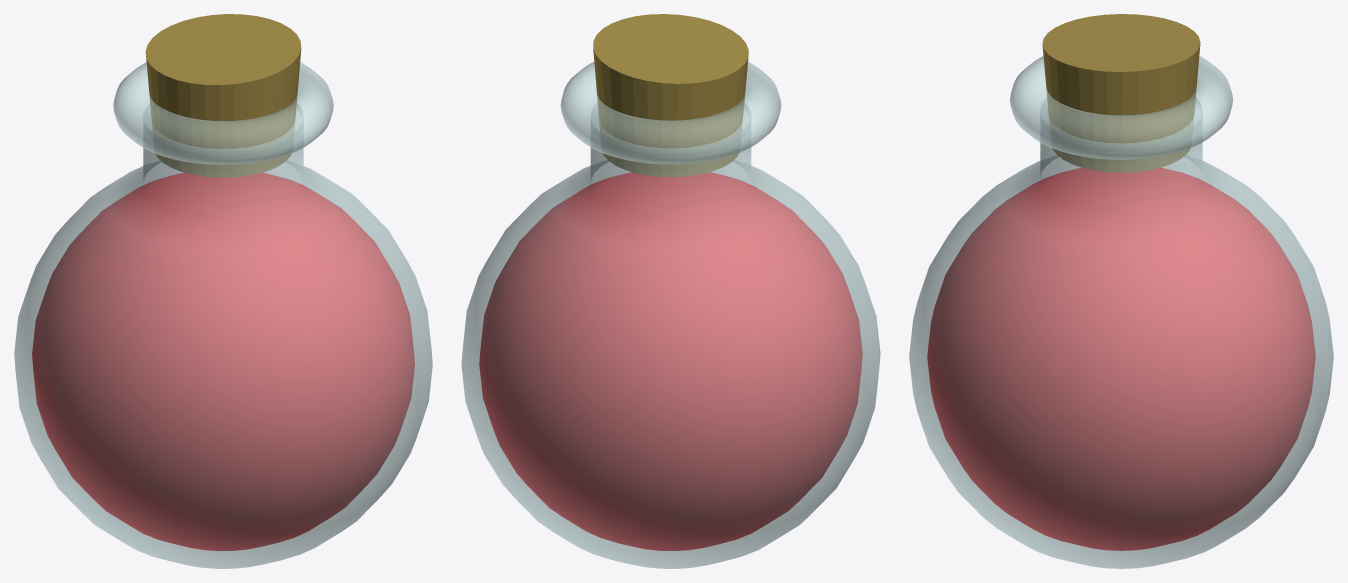
Rendered from Potion.fbx.
3 views of the same model, side by side, from view 1: azimuth 30°, elevation 25°; view 2: azimuth 150°, elevation 25°; view 3: azimuth 270°, elevation 25° (orthographic).
Visible parts, largest first — view 1: Sphere, Sphere.001, Cylinder, Torus; view 2: Sphere, Sphere.001, Cylinder, Torus; view 3: Sphere, Sphere.001, Cylinder, Torus.
Part boxes in pixels (x1,y1,x2,y2): Sphere: (14, 103, 432, 568); Sphere.001: (32, 172, 414, 551); Cylinder: (145, 14, 301, 177); Torus: (113, 62, 333, 164); Sphere: (461, 103, 880, 568); Sphere.001: (479, 172, 862, 550); Cylinder: (593, 14, 748, 177); Torus: (560, 61, 781, 164); Sphere: (909, 97, 1333, 568); Sphere.001: (927, 167, 1315, 550); Cylinder: (1042, 14, 1200, 172); Torus: (1010, 56, 1232, 159).
Size of the model in its own units: 475 by 630 by 475.
